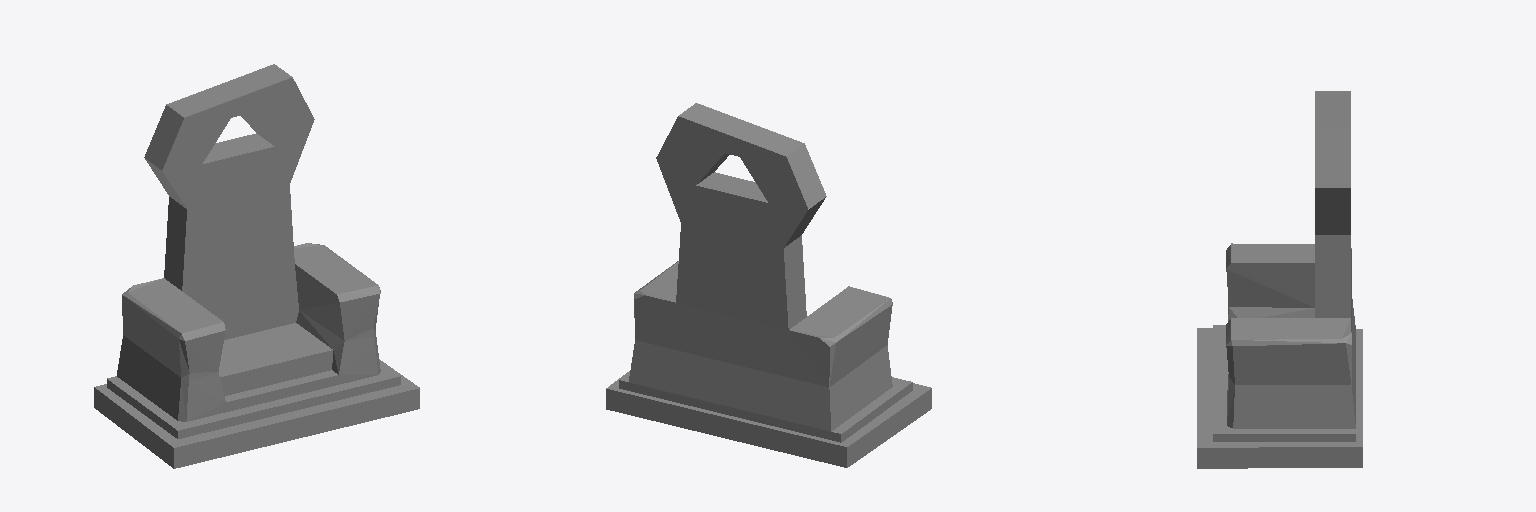
The model's file is tomb.obj.
The picture shows the model from 3 angles: view 1: azimuth 30°, elevation 25°; view 2: azimuth 150°, elevation 25°; view 3: azimuth 270°, elevation 25°; orthographic projection.
Parts seen in each view (by area): view 1: Throne_01; view 2: Throne_01; view 3: Throne_01.
Boxes of the visible parts, x1=… form: Throne_01: x1=94, y1=64, x2=419, y2=468; Throne_01: x1=606, y1=103, x2=931, y2=467; Throne_01: x1=1197, y1=91, x2=1362, y2=468.
Bounding box in the file's own units: 94.81 × 112 × 55.01.